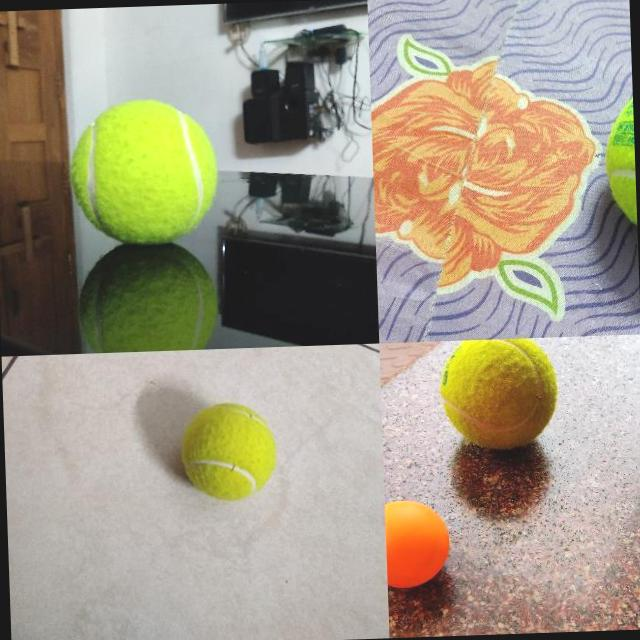Tennis Ball: (67, 96, 220, 247), (438, 337, 560, 452), (177, 401, 278, 504)
